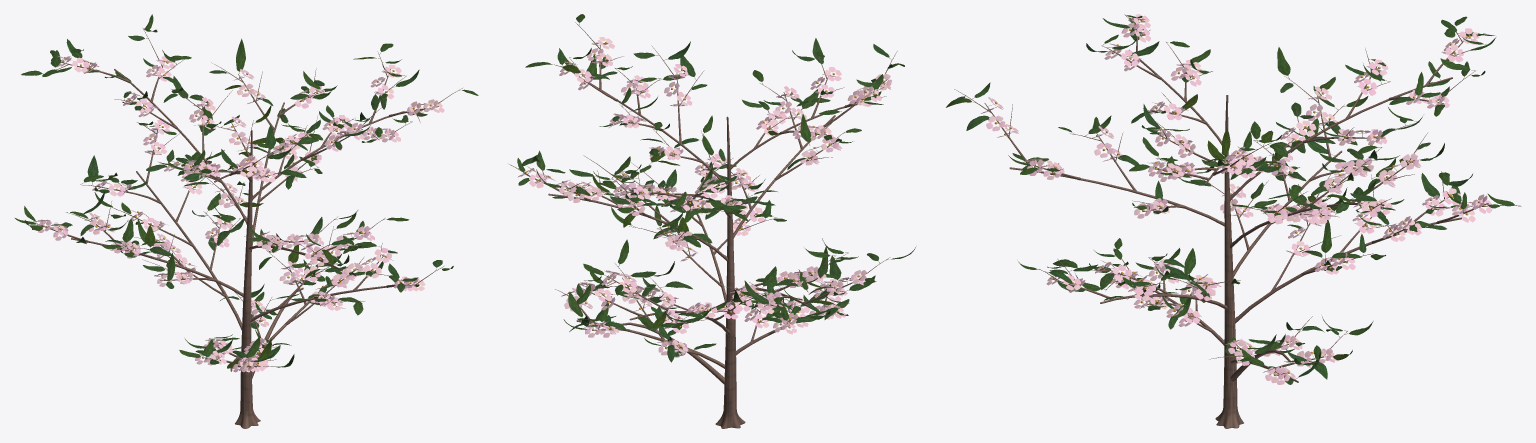
File: n-cherry-1.glb
3 views of the same model, side by side, from view 1: azimuth 30°, elevation 25°; view 2: azimuth 150°, elevation 25°; view 3: azimuth 270°, elevation 25° (orthographic). The views are drawn at different scales.
Parts seen in each view (by area): view 1: Flowers, Foliage, Bark; view 2: Foliage, Flowers, Bark; view 3: Flowers, Foliage, Bark.
Part boxes in pixels (<box>): Flowers: <box>33,55,444,372</box>; Foliage: <box>15,14,478,368</box>; Bark: <box>36,28,462,428</box>; Foliage: <box>517,14,915,362</box>; Flowers: <box>518,37,891,357</box>; Bark: <box>509,22,897,428</box>; Flowers: <box>981,14,1492,384</box>; Foliage: <box>946,15,1514,384</box>; Bark: <box>954,14,1521,428</box>.
Bounding box in the file's own units: 2.8 × 2.3 × 3.2.
Materials: 3 (2 with a texture image).
